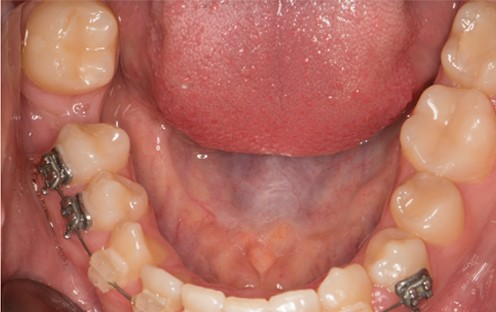LL1BC_healthy: (389, 173, 467, 250)
LL1M_healthy: (434, 3, 496, 87)
LL2BC_healthy: (400, 81, 496, 180)
LLCI_decay: (268, 288, 320, 312)
LLC_decay: (360, 229, 434, 304)
LLLI_healthy: (314, 264, 372, 312)
LR1BC_decay: (90, 220, 154, 291)
LR1M_decay: (52, 118, 131, 190)
LR2BC_decay: (59, 175, 149, 233)
LR2M_healthy: (17, 3, 119, 97)
LRCI_healthy: (223, 291, 268, 312)
LRC_healthy: (134, 265, 183, 312)
LRLI_healthy: (180, 282, 224, 312)
